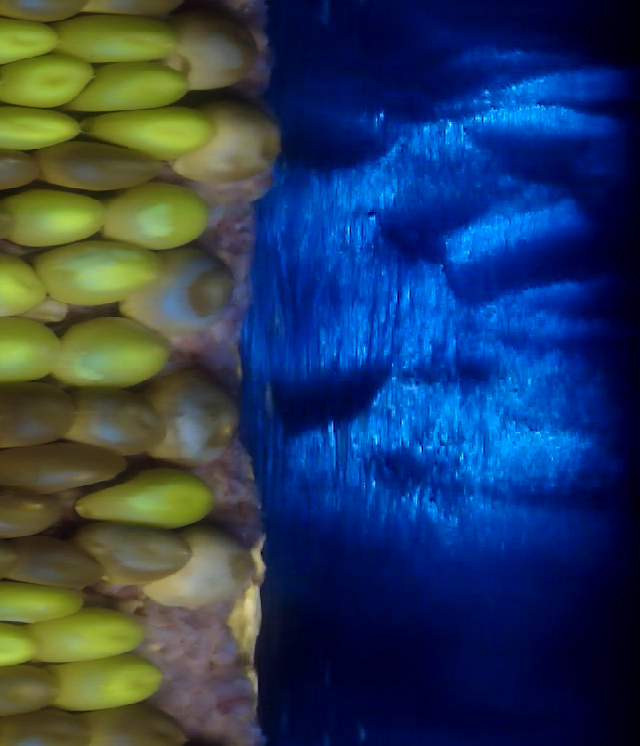fluorescent: (74, 462, 216, 527), (51, 316, 166, 391), (34, 235, 166, 299), (53, 8, 180, 69), (44, 651, 166, 711), (106, 180, 208, 251), (77, 107, 216, 156), (80, 56, 191, 116), (2, 183, 104, 246), (35, 611, 144, 665), (0, 53, 95, 104), (0, 320, 64, 390), (0, 580, 78, 628), (0, 106, 80, 150), (0, 253, 48, 317), (0, 12, 61, 61), (0, 609, 39, 670)
nonfluorescent: (143, 245, 238, 339), (156, 367, 241, 464), (193, 99, 276, 198), (33, 139, 169, 195), (165, 4, 255, 88), (81, 514, 182, 588), (72, 385, 167, 461), (177, 528, 255, 618), (0, 441, 125, 496), (8, 535, 106, 593), (0, 378, 76, 445), (83, 705, 206, 746), (0, 661, 70, 719), (0, 485, 69, 538), (0, 711, 87, 746), (0, 144, 44, 193)
